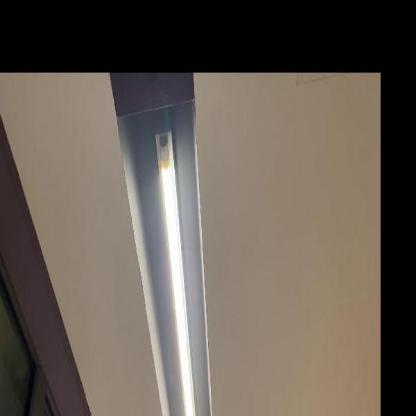light_on: (154, 118, 208, 415)
